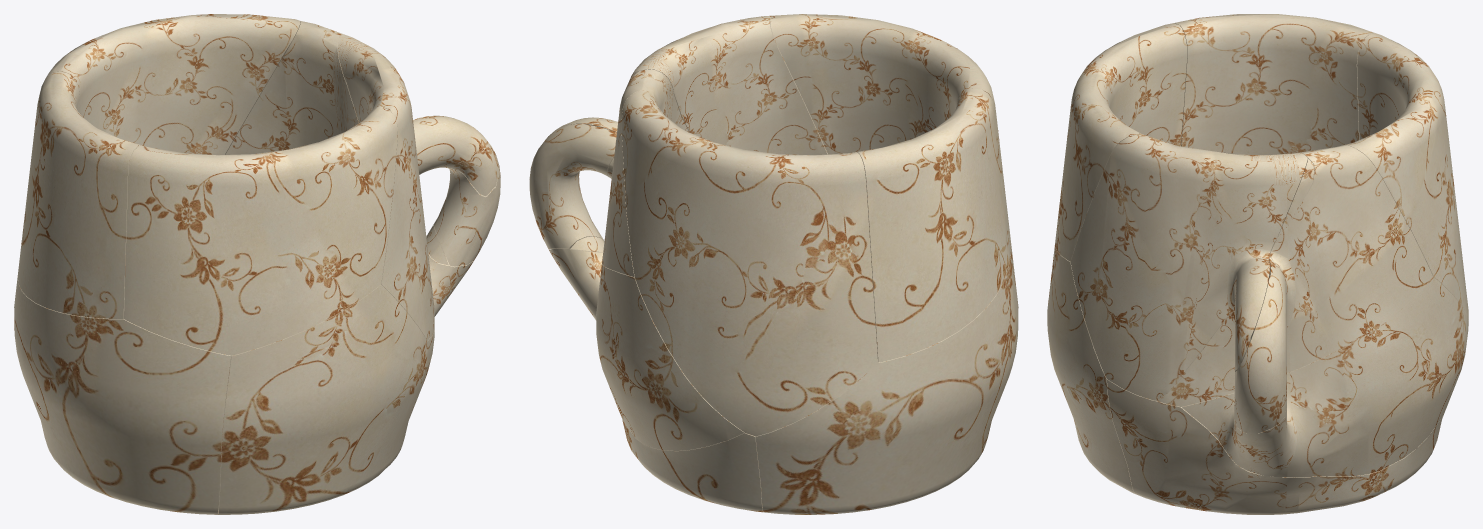
The model's file is mug_shards.glb.
3 renders of one model, left to right at view 1: azimuth 30°, elevation 25°; view 2: azimuth 150°, elevation 25°; view 3: azimuth 270°, elevation 25°, orthographic.
Visible parts, largest first — view 1: Cylinder_cell, Cylinder_cell.003, Cylinder_cell.002, Cylinder_cell.009, Cylinder_cell.006, Cylinder_cell.004, Cylinder_cell.008, Cylinder_cell.005, Cylinder_cell.007; view 2: Cylinder_cell.009, Cylinder_cell.003, Cylinder_cell.006, Cylinder_cell, Cylinder_cell.004, Cylinder_cell.007, Cylinder_cell.005, Cylinder_cell.001, Cylinder_cell.008; view 3: Cylinder_cell.004, Cylinder_cell.007, Cylinder_cell.008, Cylinder_cell.006, Cylinder_cell.001, Cylinder_cell.009, Cylinder_cell, Cylinder_cell.002, Cylinder_cell.005, Cylinder_cell.010.
Part boxes in pixels (left/top/right/bottom): Cylinder_cell: left=124, top=106, right=397, bottom=355; Cylinder_cell.003: left=14, top=276, right=231, bottom=514; Cylinder_cell.002: left=219, top=284, right=427, bottom=514; Cylinder_cell.009: left=44, top=14, right=300, bottom=155; Cylinder_cell.006: left=17, top=71, right=140, bottom=318; Cylinder_cell.004: left=337, top=34, right=499, bottom=340; Cylinder_cell.008: left=225, top=21, right=358, bottom=154; Cylinder_cell.005: left=414, top=115, right=500, bottom=266; Cylinder_cell.007: left=426, top=235, right=473, bottom=316; Cylinder_cell.009: left=621, top=90, right=877, bottom=436; Cylinder_cell.003: left=756, top=243, right=1018, bottom=514; Cylinder_cell.006: left=857, top=88, right=1010, bottom=362; Cylinder_cell: left=770, top=14, right=1010, bottom=243; Cylinder_cell.004: left=558, top=15, right=827, bottom=155; Cylinder_cell.007: left=548, top=249, right=744, bottom=450; Cylinder_cell.005: left=529, top=124, right=616, bottom=248; Cylinder_cell.001: left=622, top=420, right=763, bottom=512; Cylinder_cell.008: left=602, top=69, right=689, bottom=276; Cylinder_cell.004: left=1070, top=133, right=1307, bottom=400; Cylinder_cell.007: left=1182, top=277, right=1468, bottom=477; Cylinder_cell.008: left=1157, top=145, right=1432, bottom=406; Cylinder_cell.006: left=1175, top=14, right=1374, bottom=154; Cylinder_cell.001: left=1107, top=379, right=1445, bottom=514; Cylinder_cell.009: left=1345, top=33, right=1468, bottom=320; Cylinder_cell: left=1054, top=23, right=1187, bottom=261; Cylinder_cell.002: left=1047, top=246, right=1135, bottom=493; Cylinder_cell.005: left=1234, top=257, right=1286, bottom=433; Cylinder_cell.010: left=1277, top=159, right=1314, bottom=237.
Bounding box in the file's own units: 2.43 × 1.82 × 1.94.
Materials: 1 (1 with a texture image).
